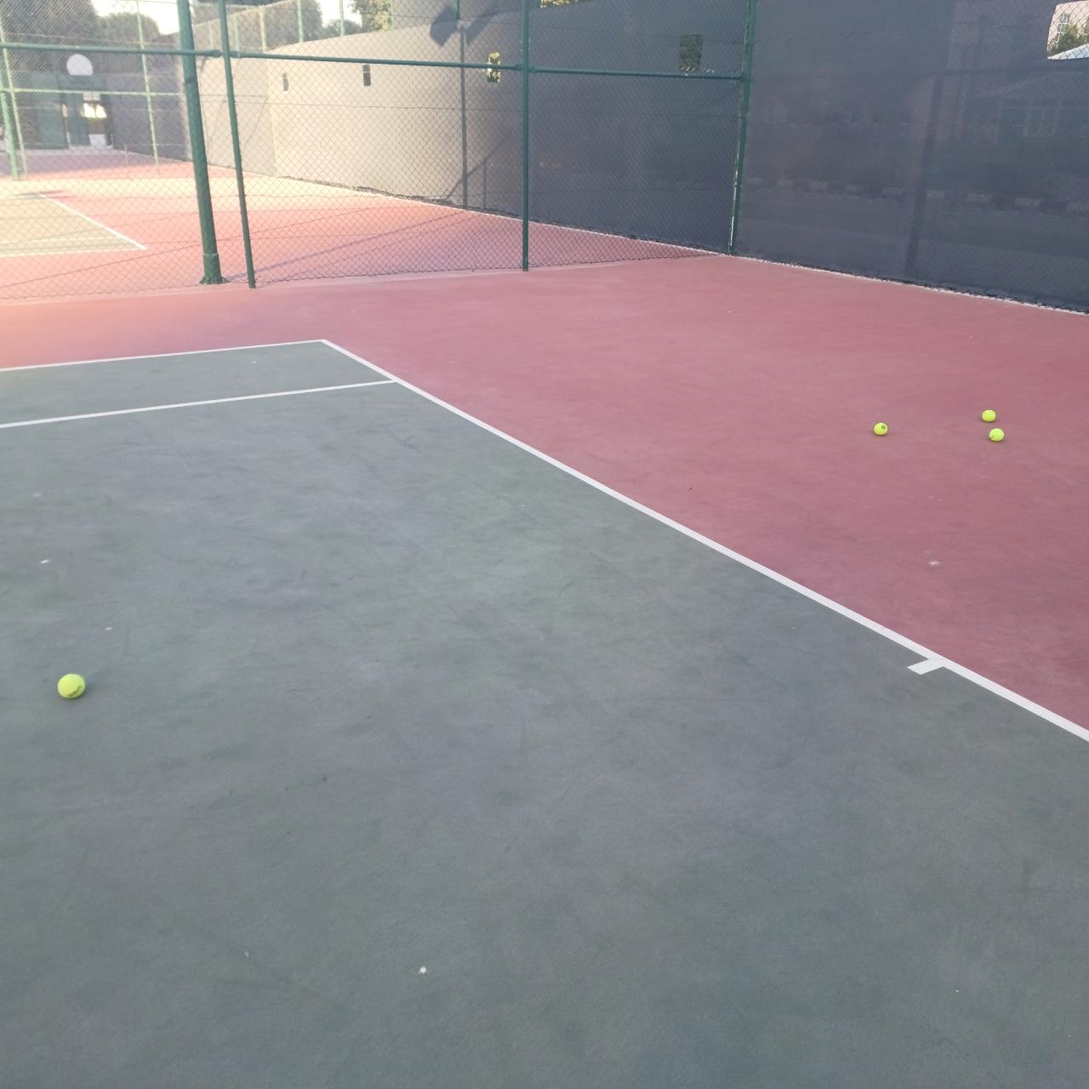tennis-ball: (55, 670, 86, 699), (986, 426, 1005, 442), (871, 419, 888, 436), (978, 407, 996, 423)
